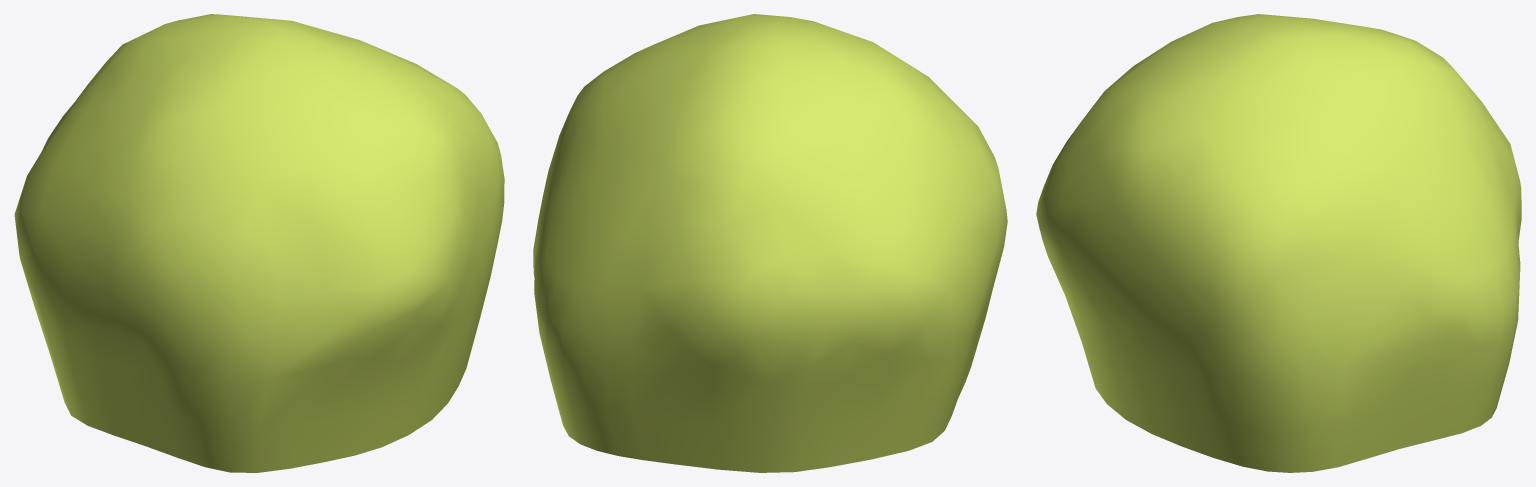
Rendered from BigBush_E.fbx.
3 views of the same model, side by side, from view 1: azimuth 30°, elevation 25°; view 2: azimuth 150°, elevation 25°; view 3: azimuth 270°, elevation 25° (orthographic).
Visible parts, largest first — view 1: Bush_b_l_01; view 2: Bush_b_l_01; view 3: Bush_b_l_01.
Boxes of the visible parts, x1,y1,x2,y2 form: Bush_b_l_01: [14, 14, 504, 472]; Bush_b_l_01: [533, 14, 1007, 472]; Bush_b_l_01: [1036, 14, 1521, 472].
Bounding box in the file's own units: 282 × 223 × 284.
